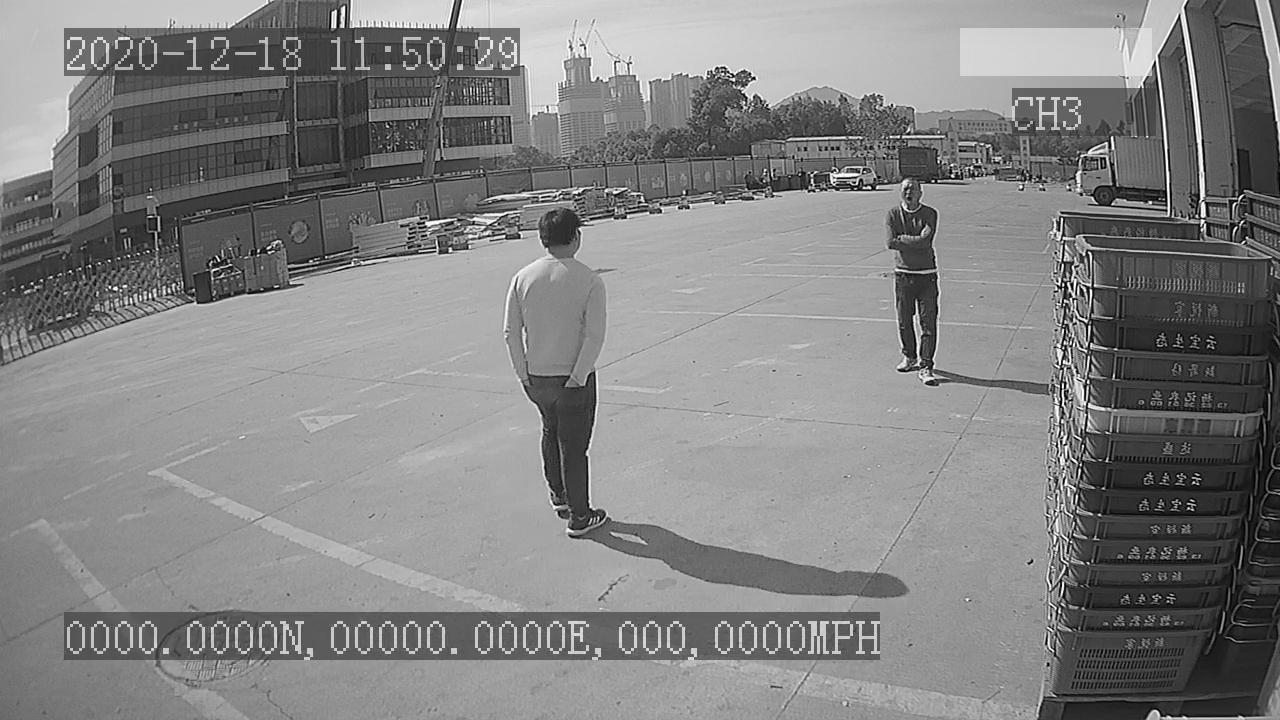person: (499, 206, 613, 542), (884, 174, 949, 390)
